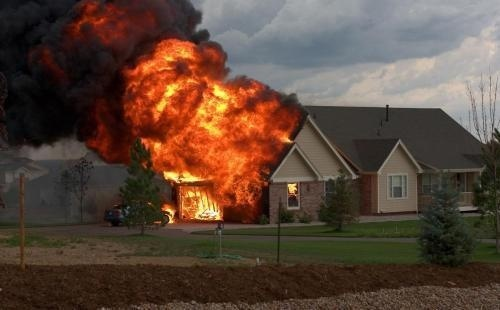fire: (80, 22, 302, 230)
